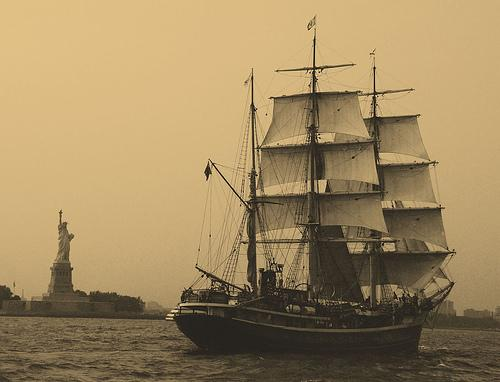Ship: (173, 18, 456, 357)
